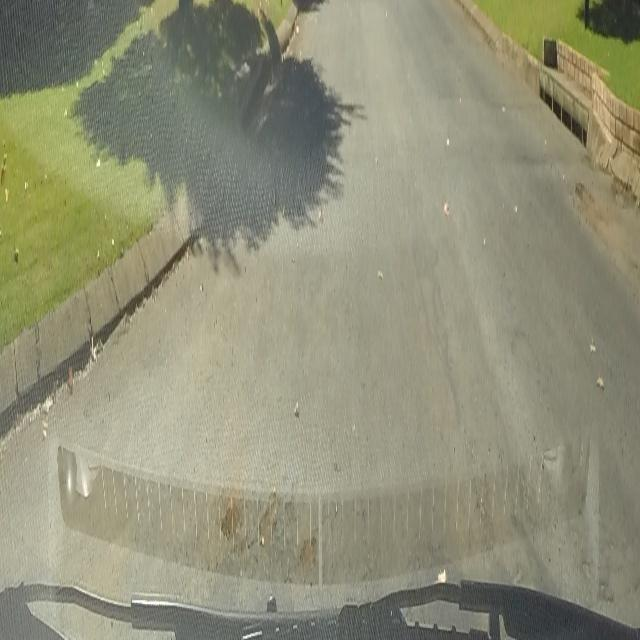pothole: (214, 484, 326, 571)
